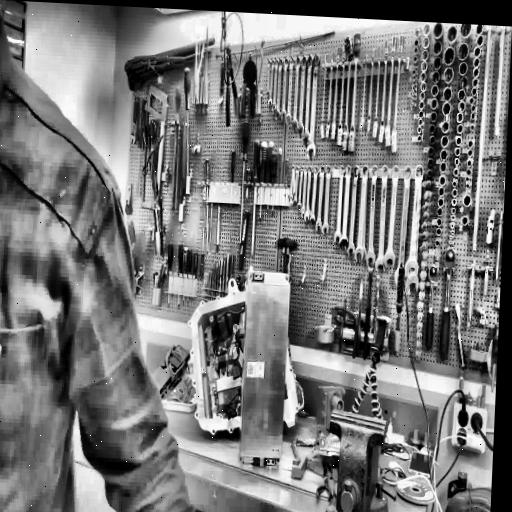battery_module: (239, 269, 291, 466)
